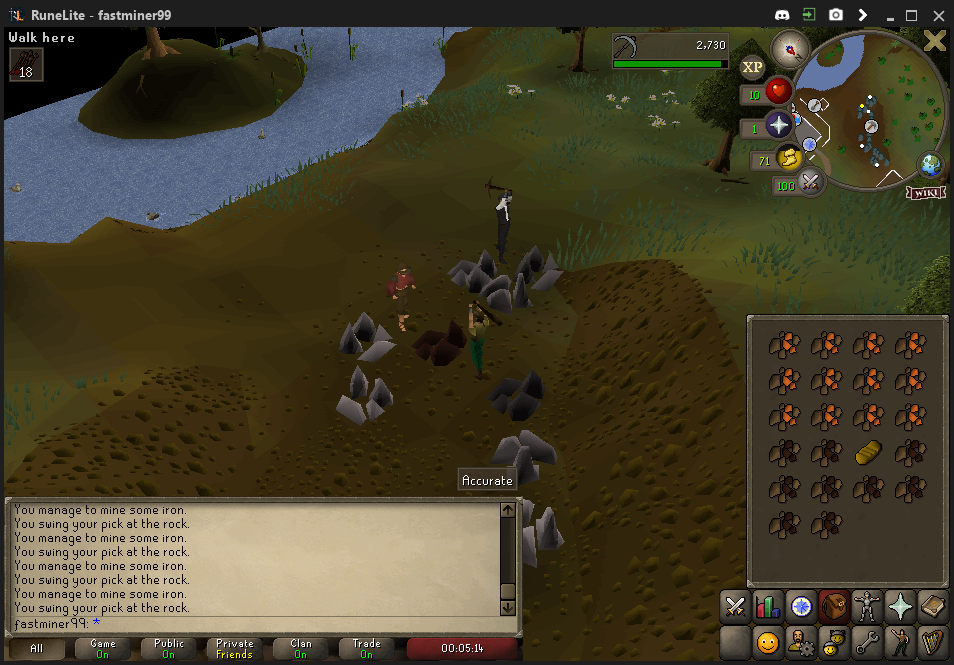depleted: (488, 366, 547, 421)
ore: (414, 320, 468, 366)
